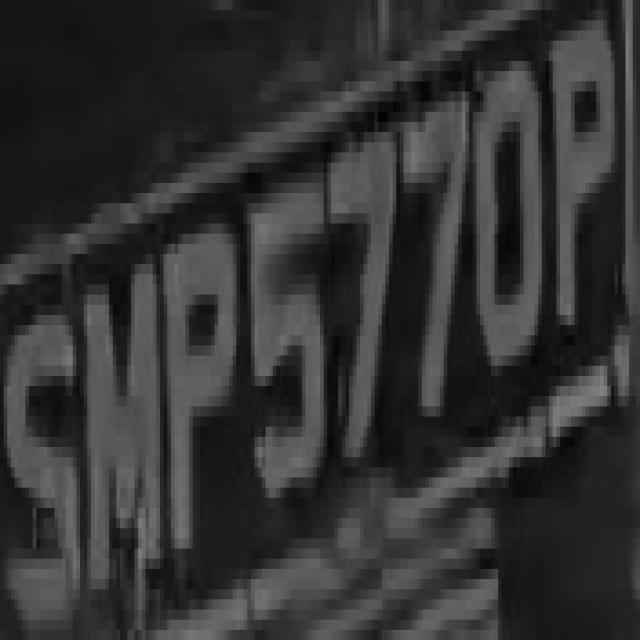0: (473, 31, 538, 396)
5: (240, 172, 331, 488)
7: (375, 91, 480, 488), (309, 122, 400, 467)
M: (69, 223, 164, 630)
P: (164, 193, 247, 599), (549, 21, 633, 346)
S: (0, 254, 80, 630)
